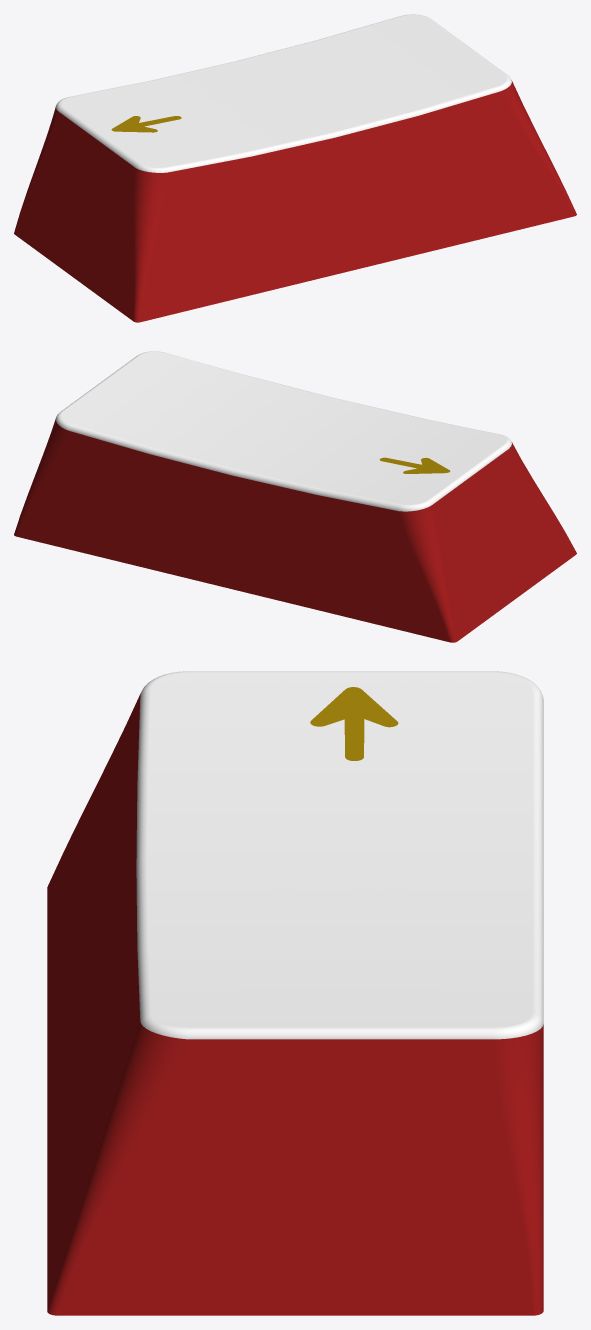
File: Backspace Icon 200.fbx
3 renders of one model, top to bottom at view 1: azimuth 30°, elevation 25°; view 2: azimuth 150°, elevation 25°; view 3: azimuth 270°, elevation 25°, orthographic. The views are drawn at different scales.
Parts seen in each view (by area): view 1: Body1; view 2: Body1; view 3: Body1.
Part boxes in pixels (left/top/right/bottom): Body1: left=14, top=14, right=576, bottom=322; Body1: left=14, top=351, right=576, bottom=642; Body1: left=47, top=671, right=543, bottom=1315.
Bounding box in the file's own units: 37.08 × 9.98 × 18.
